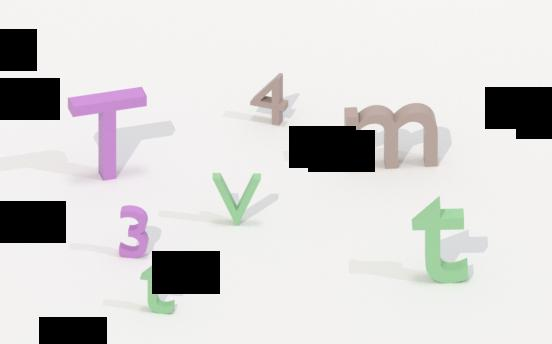2: (117, 202, 152, 261)
4: (248, 70, 290, 127)
m: (340, 101, 443, 174)
t: (409, 191, 472, 285), (136, 259, 179, 318)
t-hoa: (62, 83, 153, 183)
v: (206, 171, 266, 229)
